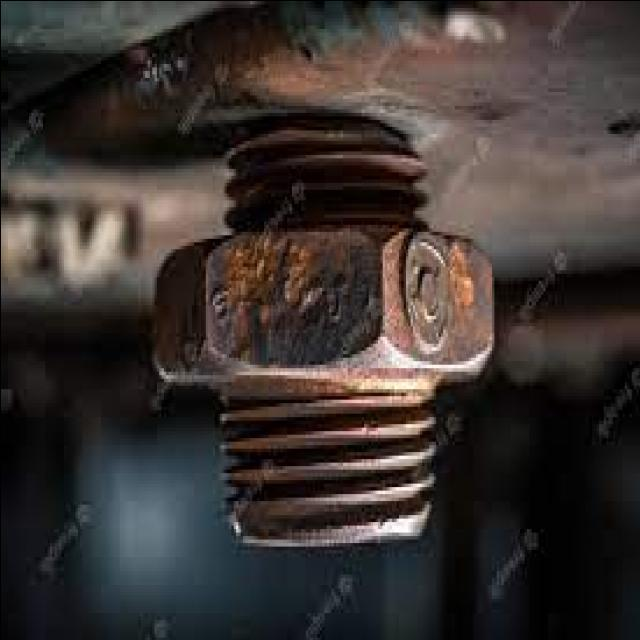nut: (147, 212, 494, 375)
